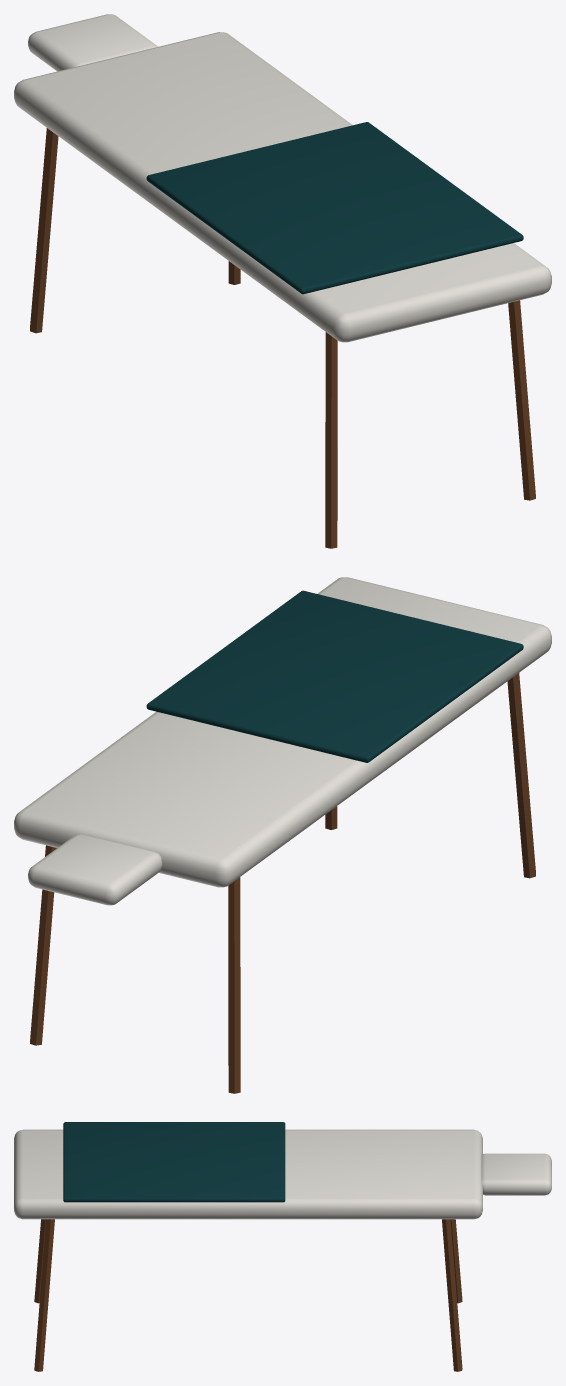
The model's file is home.lodge.massage_table.glb.
The picture shows the model from 3 angles, top to bottom: view 1: azimuth 30°, elevation 25°; view 2: azimuth 150°, elevation 25°; view 3: azimuth 270°, elevation 25°; orthographic projection. The views are drawn at different scales.
Parts seen in each view (by area): view 1: main__fabric_white, main__velvet_teal, main__hardwood; view 2: main__fabric_white, main__velvet_teal, main__hardwood; view 3: main__fabric_white, main__velvet_teal, main__hardwood.
Boxes of the visible parts, box(x1,y1,x2,y2) form: main__fabric_white: box(14, 14, 551, 342); main__velvet_teal: box(146, 122, 523, 294); main__hardwood: box(30, 128, 535, 548); main__fabric_white: box(14, 577, 551, 905); main__velvet_teal: box(146, 590, 523, 762); main__hardwood: box(30, 673, 535, 1093); main__fabric_white: box(14, 1129, 551, 1219); main__velvet_teal: box(63, 1122, 285, 1202); main__hardwood: box(34, 1219, 462, 1371).
Bounding box in the file's own units: 0.74 × 0.7867 × 2.18.
